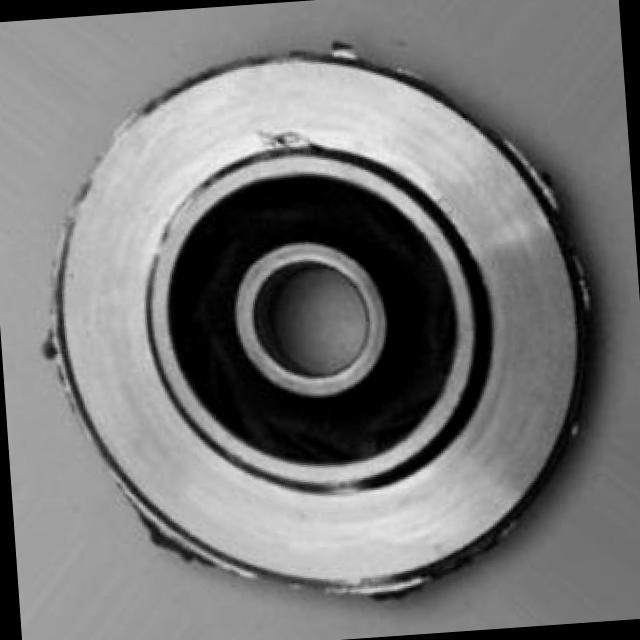Defect: (258, 114, 319, 166)
